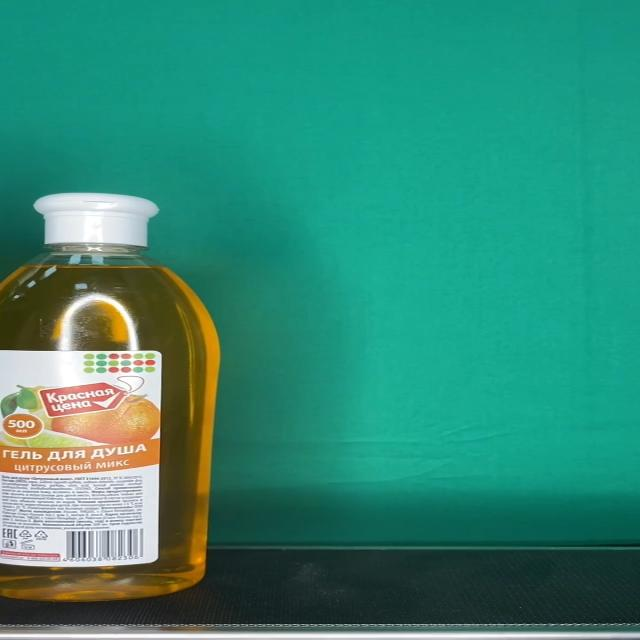Bottle: (0, 191, 222, 601)
Cap: (33, 193, 157, 245)
